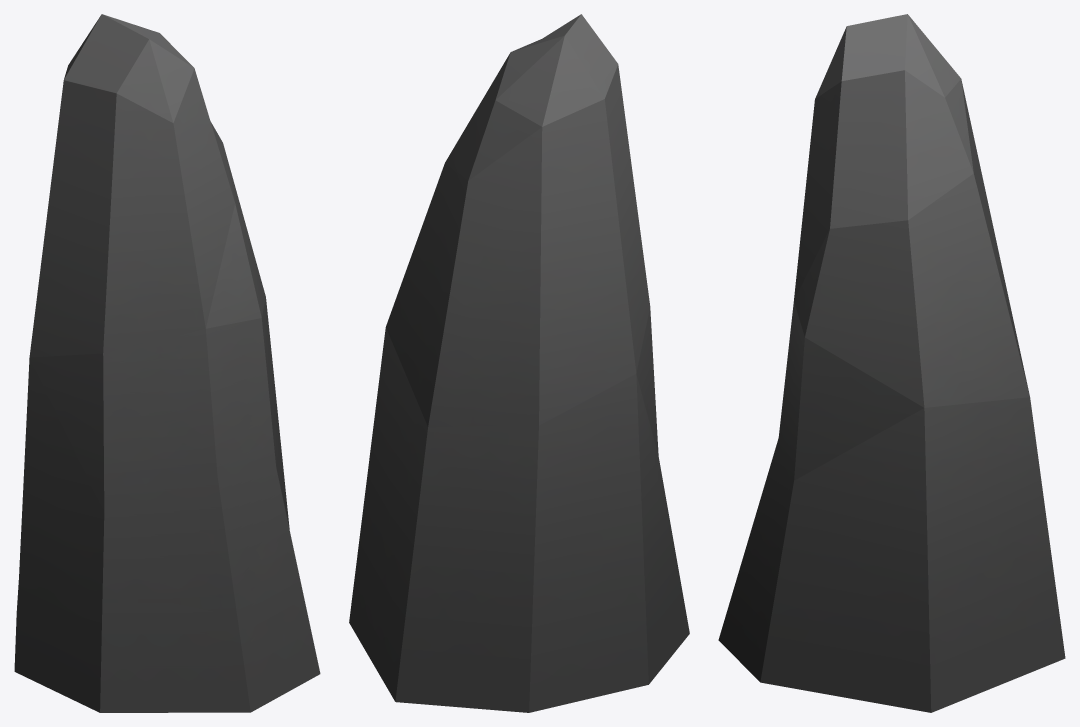
The model's file is rocher02_01.FBX.
3 renders of one model, left to right at view 1: azimuth 30°, elevation 25°; view 2: azimuth 150°, elevation 25°; view 3: azimuth 270°, elevation 25°, orthographic. The views are drawn at different scales.
Visible parts, largest first — view 1: rocher02_LOD00; view 2: rocher02_LOD00; view 3: rocher02_LOD00.
Part boxes in pixels (x1=…): rocher02_LOD00: x1=14, y1=14, x2=320, y2=712; rocher02_LOD00: x1=349, y1=14, x2=689, y2=712; rocher02_LOD00: x1=718, y1=14, x2=1065, y2=712.
Size of what is drawn, in the model's own units: 1.41 by 2.93 by 1.53.
